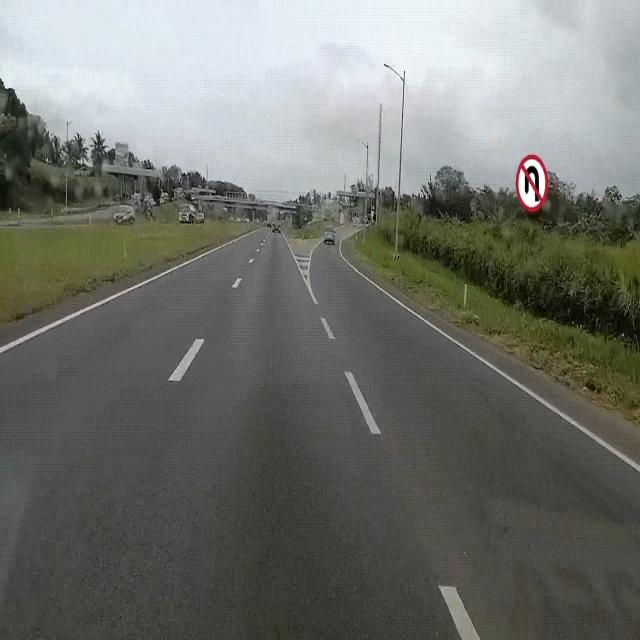Demi-Tour-Interdit: (510, 148, 550, 218)
